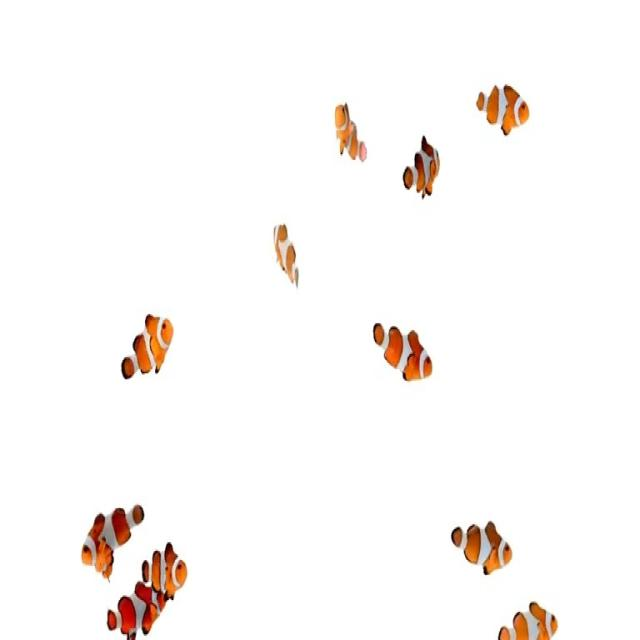fish: (81, 492, 146, 584), (365, 304, 436, 388), (115, 302, 181, 391), (470, 68, 535, 150), (450, 506, 516, 586), (141, 537, 200, 603), (103, 580, 166, 640), (330, 93, 373, 172), (401, 131, 443, 205), (495, 597, 560, 640), (264, 220, 302, 292)
